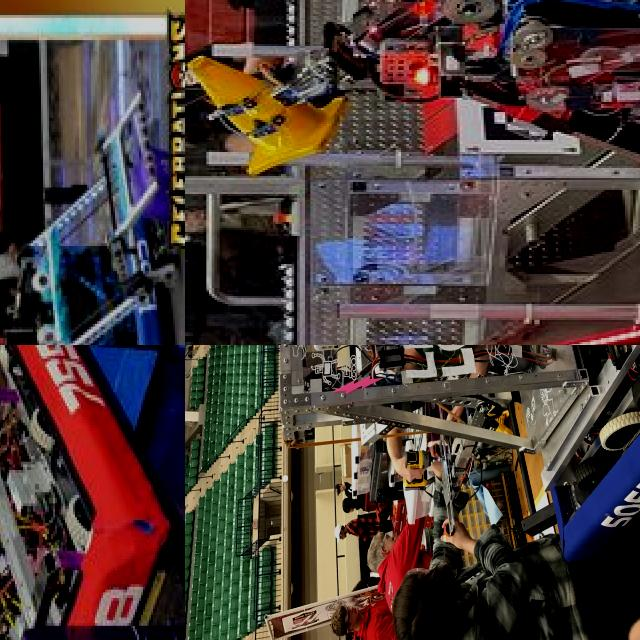FRC-Robots: (190, 0, 640, 311), (269, 345, 640, 579), (0, 345, 156, 640), (8, 122, 185, 345)
